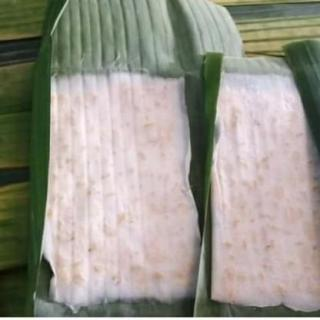Tempe: (46, 73, 203, 304), (210, 71, 320, 311)
